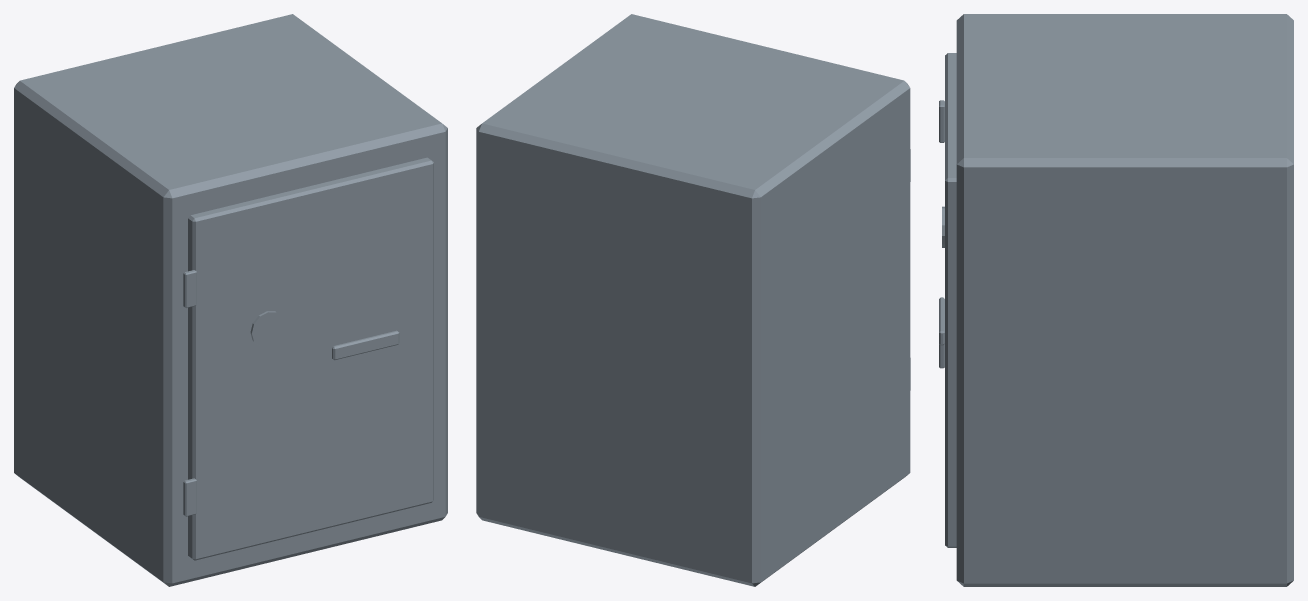
Rendered from safe.v1.glb.
3 views of the same model, side by side, from view 1: azimuth 30°, elevation 25°; view 2: azimuth 150°, elevation 25°; view 3: azimuth 270°, elevation 25° (orthographic). The views are drawn at different scales.
Parts seen in each view (by area): view 1: mesh_body, mesh_door, mesh_handle, mesh_lock; view 2: mesh_body; view 3: mesh_body, mesh_door.
Boxes of the visible parts, x1,y1,x2,y2 form: mesh_body: (14,14,447,586); mesh_door: (188,157,433,560); mesh_handle: (332,330,399,360); mesh_lock: (250,311,284,346); mesh_body: (476,14,910,586); mesh_body: (956,14,1293,586); mesh_door: (945,53,956,547).
Size of the model in its own units: 0.6 by 0.8 by 0.6.
